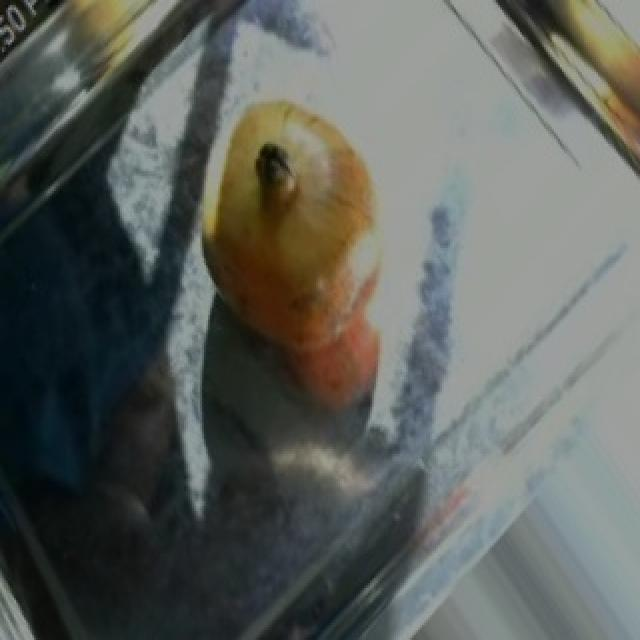fruit: (174, 80, 414, 380)
